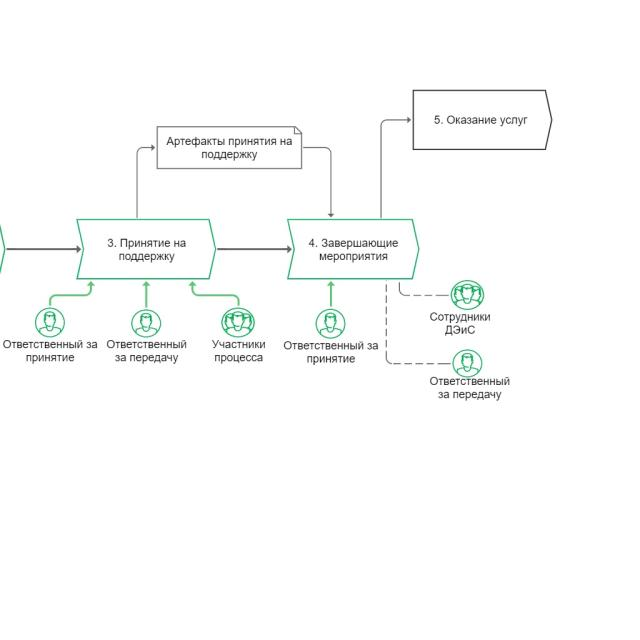arrow: (378, 116, 412, 219), (5, 243, 83, 254), (215, 244, 293, 255)
rectangle: (76, 217, 216, 282), (411, 88, 553, 151), (285, 217, 420, 281)
text_region: (166, 136, 294, 163), (2, 337, 99, 365), (282, 339, 381, 366), (105, 336, 189, 366), (429, 376, 513, 403), (427, 307, 493, 336), (209, 335, 267, 364)
